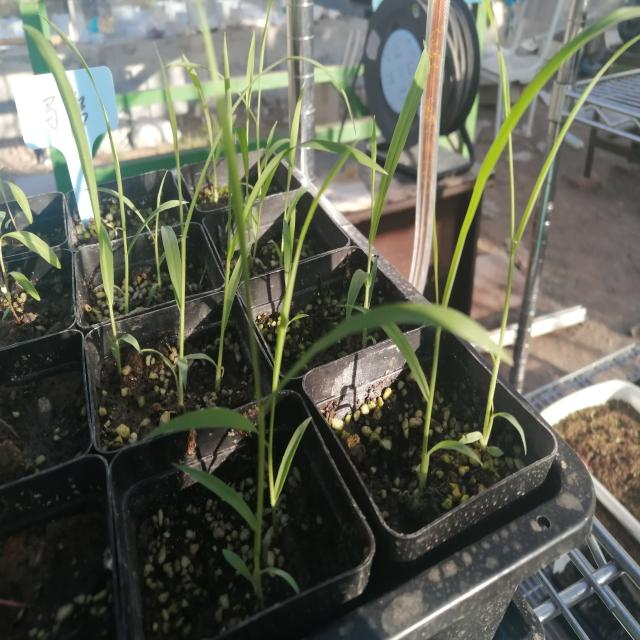crabgrass: (112, 48, 242, 380), (30, 7, 140, 375)
